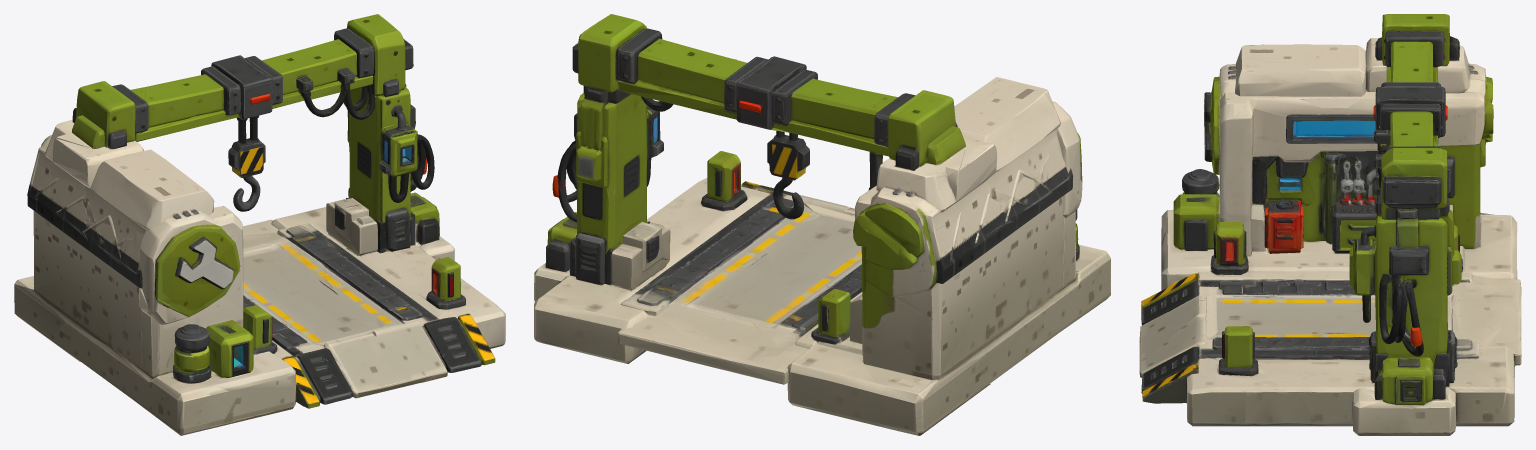
The model's file is m04_repair_station.glb.
3 renders of one model, left to right at view 1: azimuth 30°, elevation 25°; view 2: azimuth 150°, elevation 25°; view 3: azimuth 270°, elevation 25°, orthographic. The views are drawn at different scales.
Size of the model in its own units: 1.9 by 1.21 by 1.6.
1 material, 1 textured.
